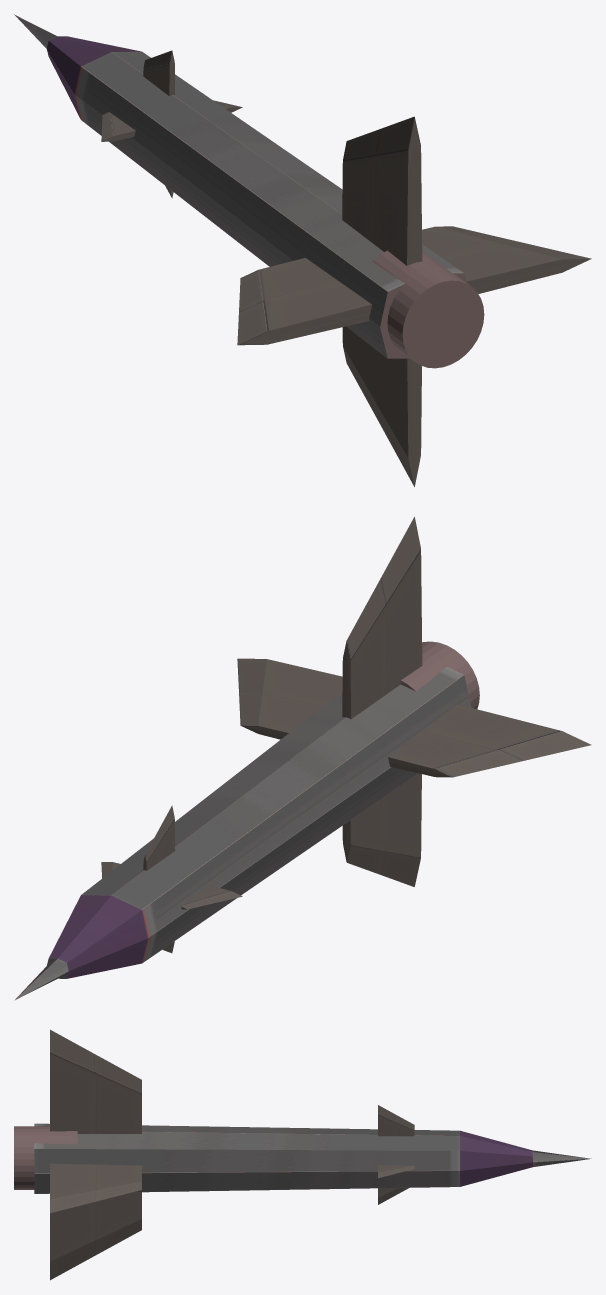
Rendered from missile.obj.
3 views of the same model, one above another, from view 1: azimuth 30°, elevation 25°; view 2: azimuth 150°, elevation 25°; view 3: azimuth 270°, elevation 25° (orthographic). The views are drawn at different scales.
Parts seen in each view (by area): view 1: Cube; view 2: Cube; view 3: Cube.
Part boxes in pixels (<box>): Cube: <box>14,14,591,486</box>; Cube: <box>14,517,591,1000</box>; Cube: <box>14,1029,591,1280</box>.
Size of the model in its own units: 4.34 by 4.34 by 9.06.
Materials: 1 (1 with a texture image).
